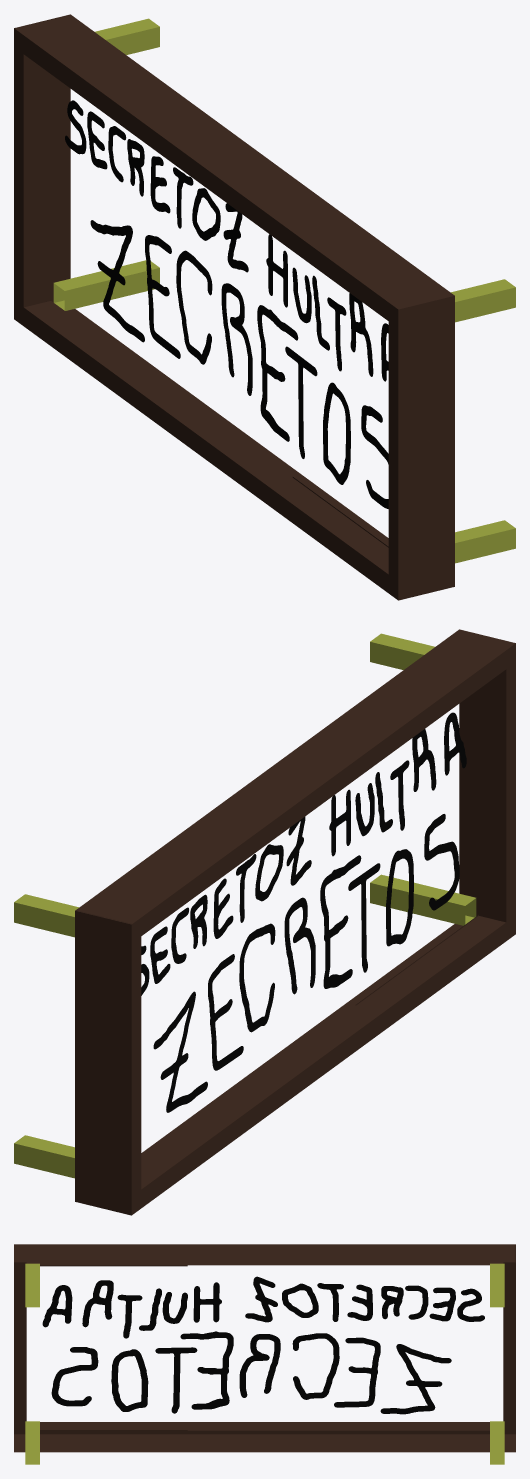
Rendered from Banner.fbx.
3 views of the same model, one above another, from view 1: azimuth 30°, elevation 25°; view 2: azimuth 150°, elevation 25°; view 3: azimuth 270°, elevation 25° (orthographic). The views are drawn at different scales.
Parts seen in each view (by area): view 1: Cube.001; view 2: Cube.001; view 3: Cube.001.
Boxes of the visible parts, left/top/right/bottom form: Cube.001: left=14, top=14, right=515, bottom=600; Cube.001: left=14, top=629, right=515, bottom=1215; Cube.001: left=14, top=1244, right=515, bottom=1464.
Size of the model in its own units: 1.08 by 2.37 by 5.67.
